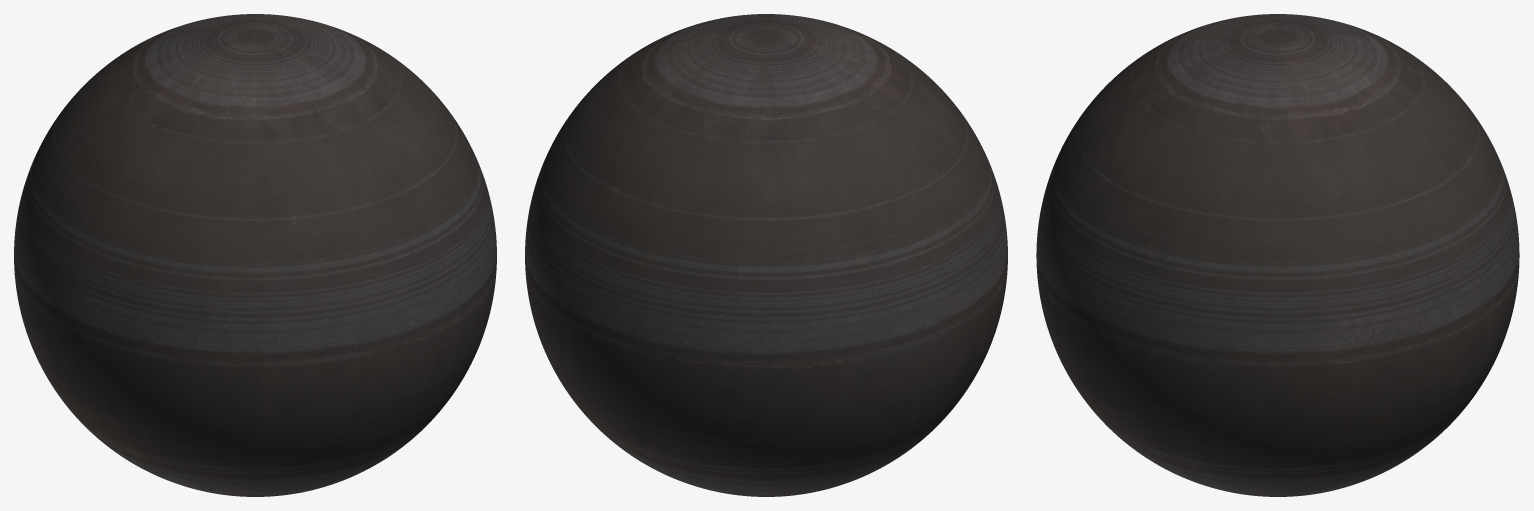
Rendered from bitumen_2k.gltf.
3 views of the same model, side by side, from view 1: azimuth 30°, elevation 25°; view 2: azimuth 150°, elevation 25°; view 3: azimuth 270°, elevation 25° (orthographic).
Parts seen in each view (by area): view 1: sphere_gltf; view 2: sphere_gltf; view 3: sphere_gltf.
Boxes of the visible parts, left/top/right/bottom form: sphere_gltf: left=14, top=14, right=496, bottom=496; sphere_gltf: left=525, top=14, right=1007, bottom=496; sphere_gltf: left=1036, top=14, right=1519, bottom=496.
Bounding box in the file's own units: 20 × 20 × 20.
1 material, 1 textured.
